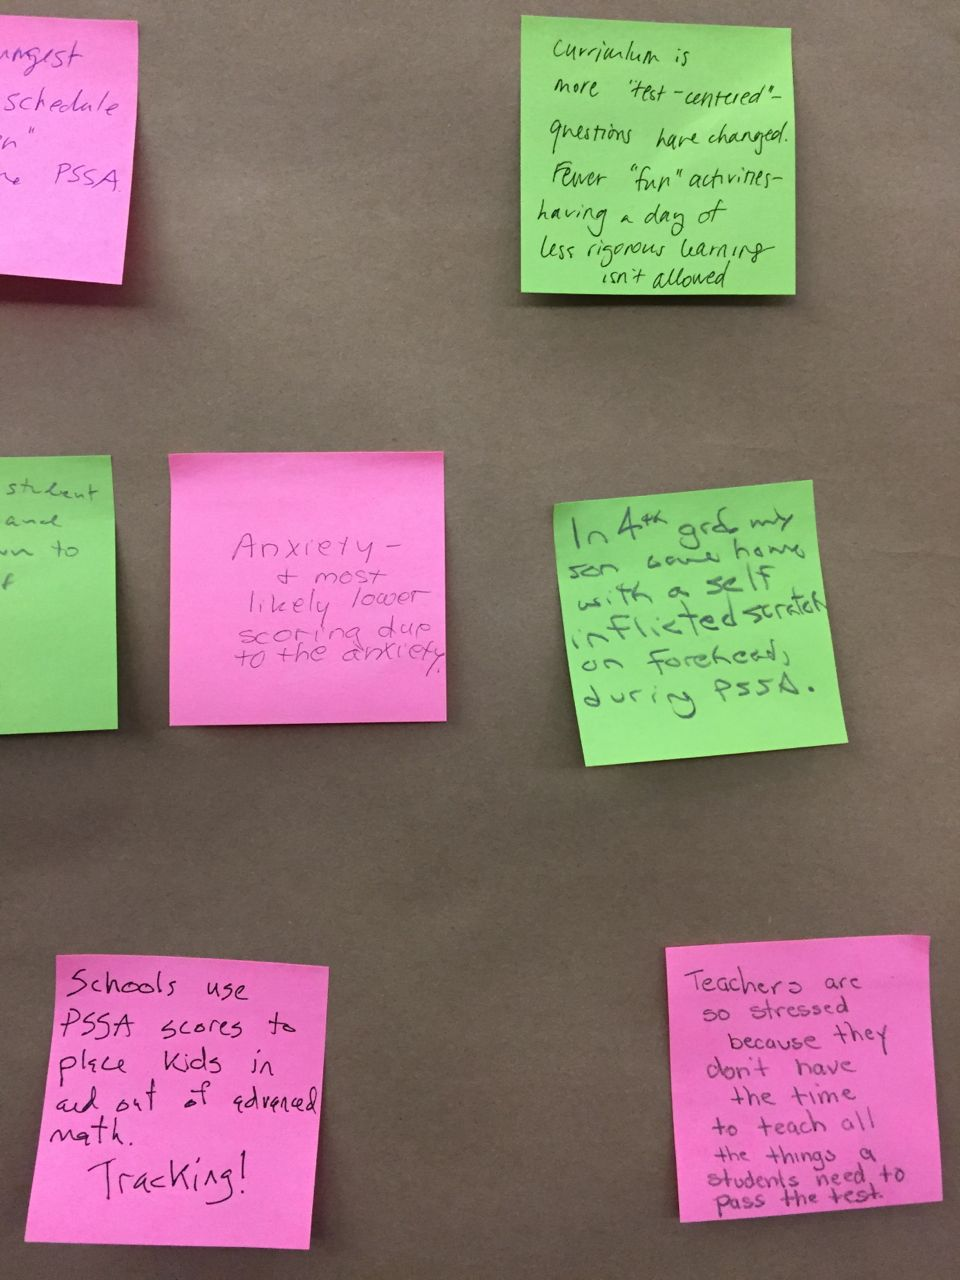Note: (552, 479, 852, 770), (32, 956, 336, 1245), (523, 12, 798, 308), (665, 930, 945, 1219), (167, 450, 445, 728), (1, 12, 143, 292), (3, 452, 123, 741)
